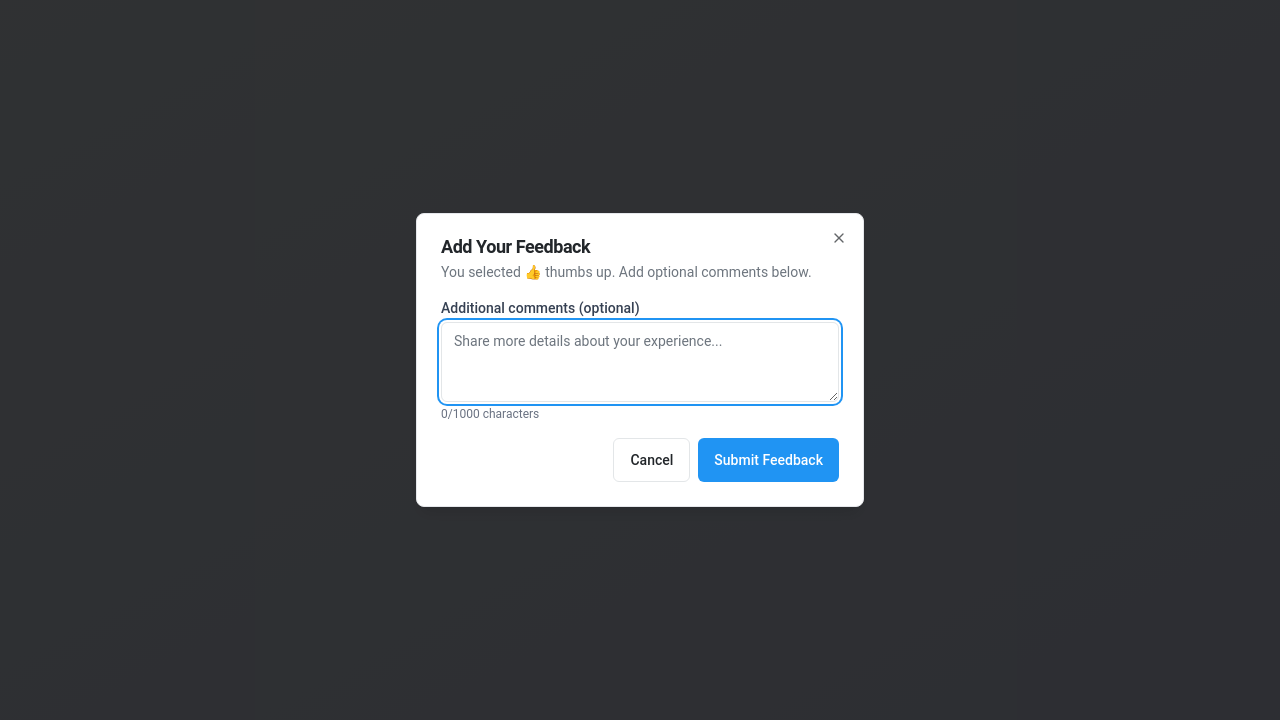
Test: generic app feedback HTTP400 retains comment and reports no false success
Type "Please keep this draft" into the text box labelled "Additional comments (optional)" at (640, 362), box [441,322,839,402]
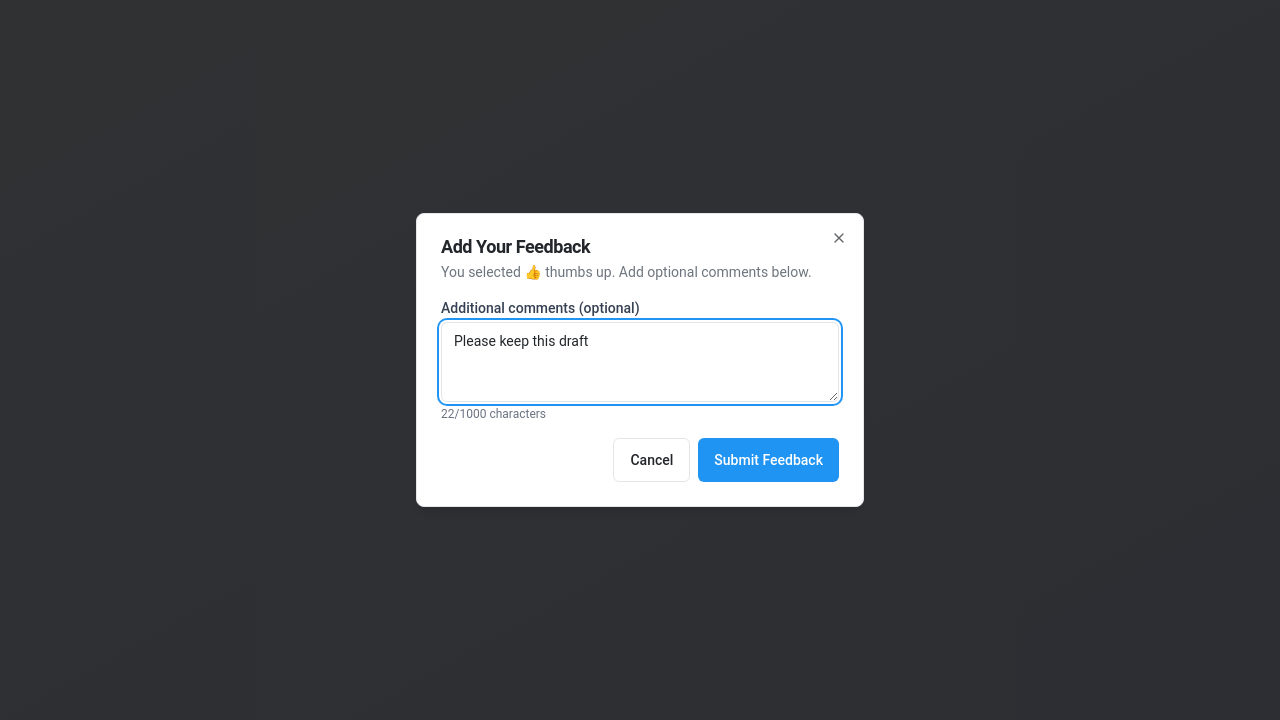
Click the button with test id "button-submit-feedback" at (769, 460), box [698,438,839,482]
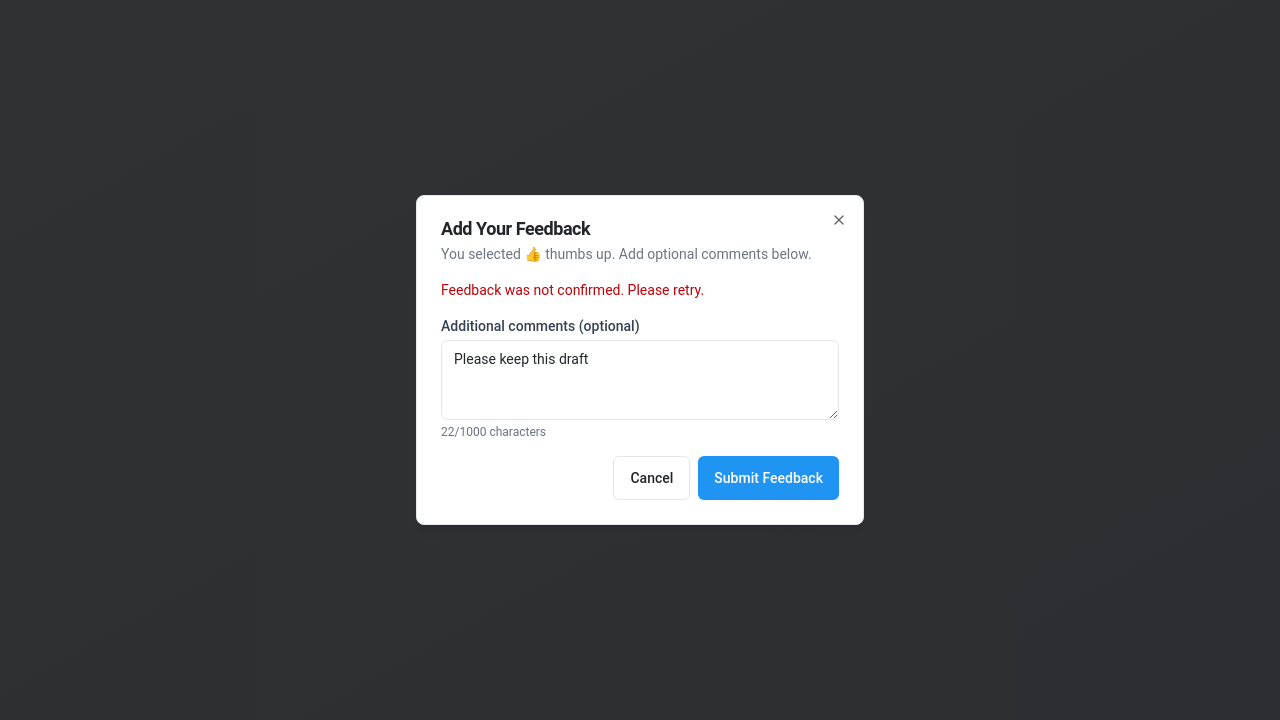
Check: the message "Feedback was not confirmed. Please retry." is shown, box [441,282,704,298]
